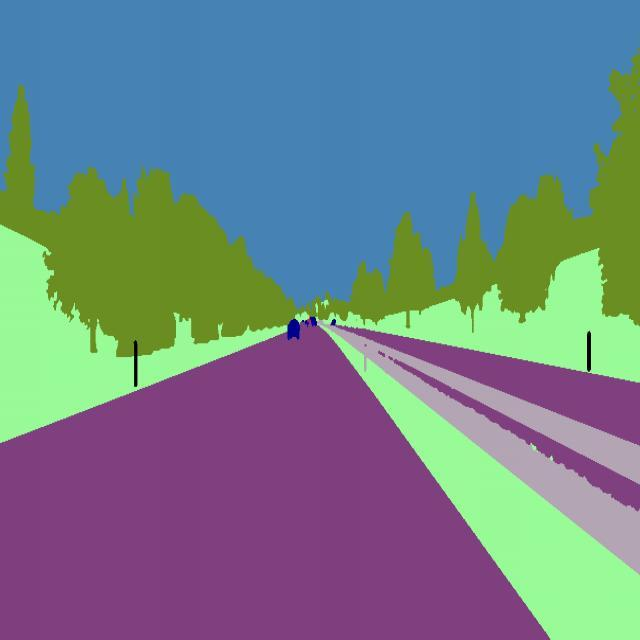safe: (284, 314, 303, 346), (309, 314, 318, 330)
